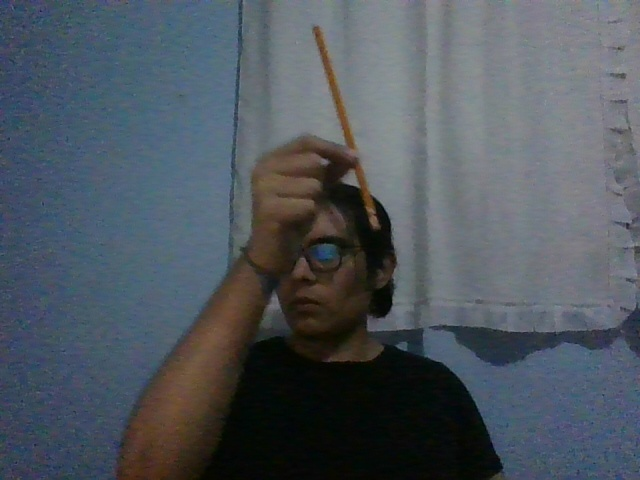lapiz: (311, 25, 382, 231)
